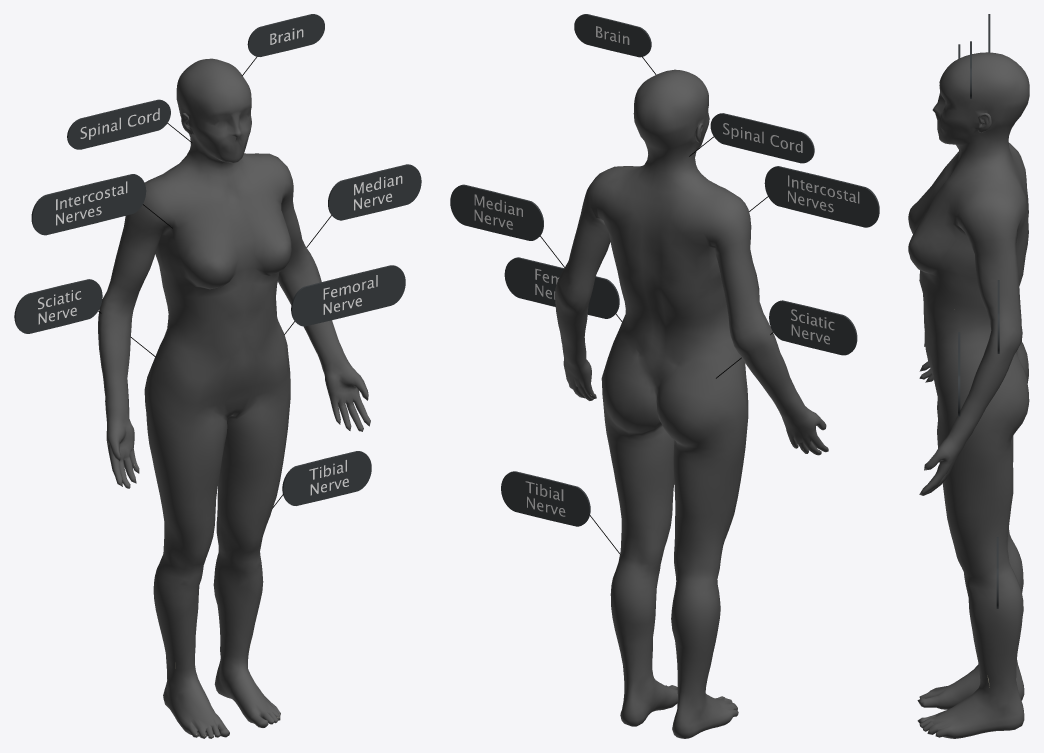
The model's file is nervousSystem.glb.
The picture shows the model from 3 angles, left to right: view 1: azimuth 30°, elevation 25°; view 2: azimuth 150°, elevation 25°; view 3: azimuth 270°, elevation 25°; orthographic projection. The views are drawn at different scales.
Visible parts, largest first — view 1: female_skin, LabelGroup2; view 2: female_skin, LabelGroup2; view 3: female_skin, LabelGroup2.
Part boxes in pixels (x1,y1,x2,y2): female_skin: [98, 58, 370, 738]; LabelGroup2: [14, 14, 421, 508]; female_skin: [555, 69, 828, 738]; LabelGroup2: [450, 14, 879, 554]; female_skin: [908, 52, 1029, 738]; LabelGroup2: [958, 14, 999, 608].
Bounding box in the file's own units: 1.18 × 1.89 × 0.2986.
5 materials, 1 textured.
